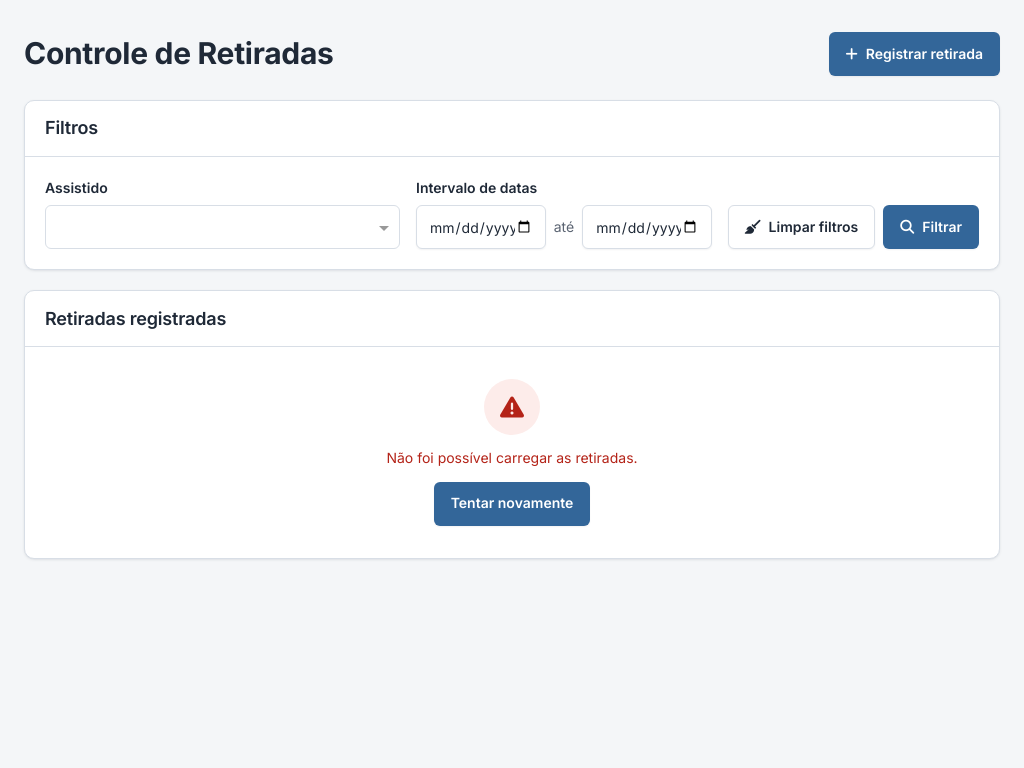
Test case: RetiradasComponent › erro de rede na lista mostra estado de erro e permite tentar novamente
Click the button "Tentar novamente".
click(512, 504)  # box [434,482,590,526]
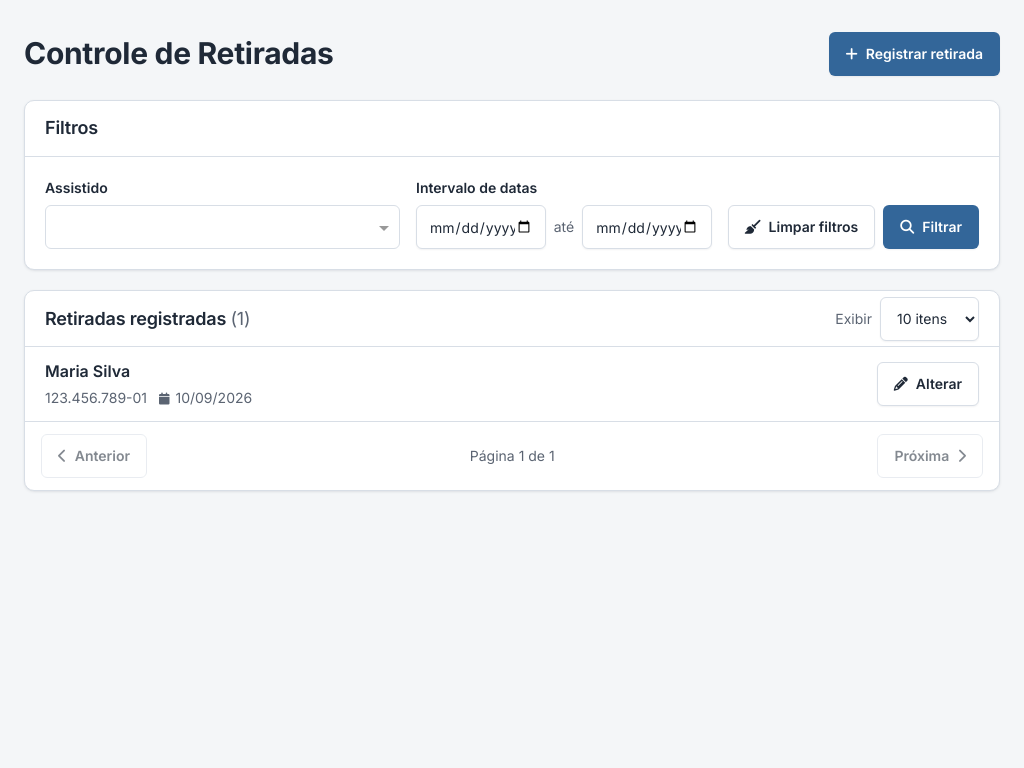
Now the number of list items with class "ret-item" is 1, box [25,347,999,421]
